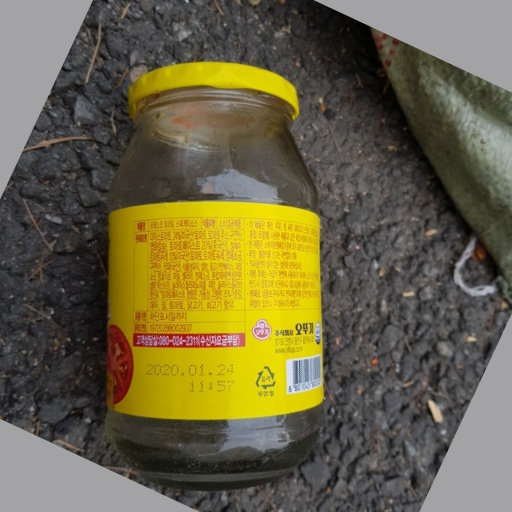Glass_5: (101, 60, 330, 481)
